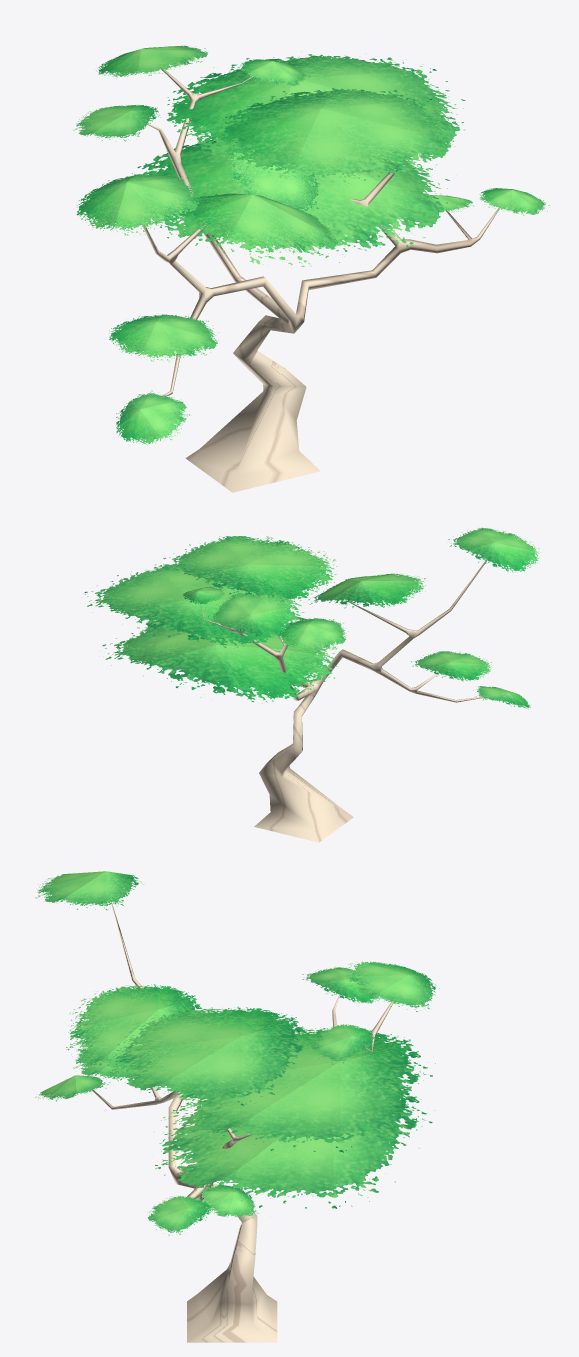
File: Bush.fbx
3 renders of one model, top to bottom at view 1: azimuth 30°, elevation 25°; view 2: azimuth 150°, elevation 25°; view 3: azimuth 270°, elevation 25°, orthographic. The views are drawn at different scales.
Visible parts, largest first — view 1: Bush; view 2: Bush; view 3: Bush.
Boxes of the visible parts, bbox=[...] form: Bush: bbox=[73, 45, 549, 492]; Bush: bbox=[82, 527, 540, 842]; Bush: bbox=[35, 871, 439, 1342].
Bounding box in the file's own units: 512 × 327 × 452.
